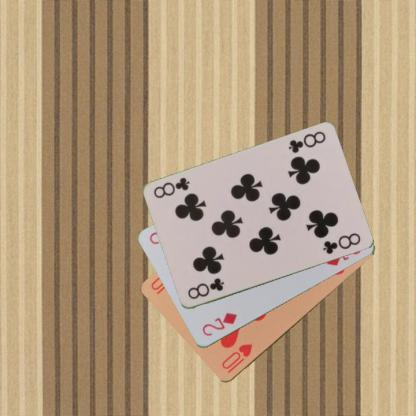10h: (220, 341, 254, 375)
2d: (199, 310, 239, 338)
8c: (184, 276, 226, 302), (285, 129, 327, 155)
